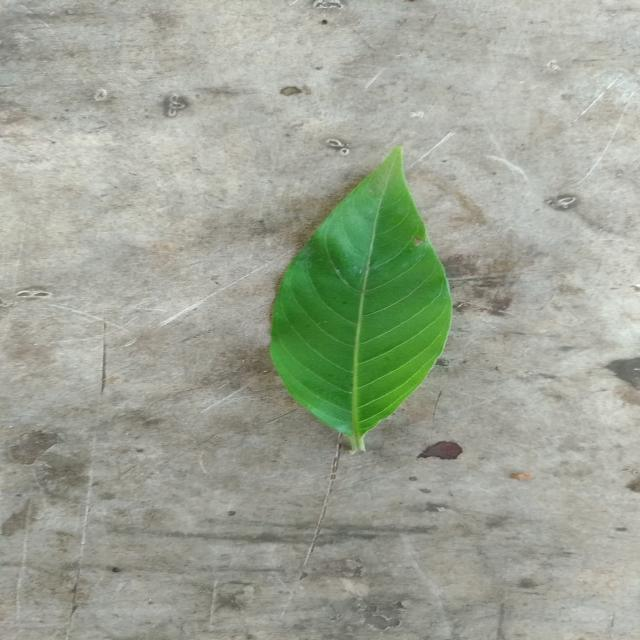malabar_nut: (271, 148, 451, 452)
